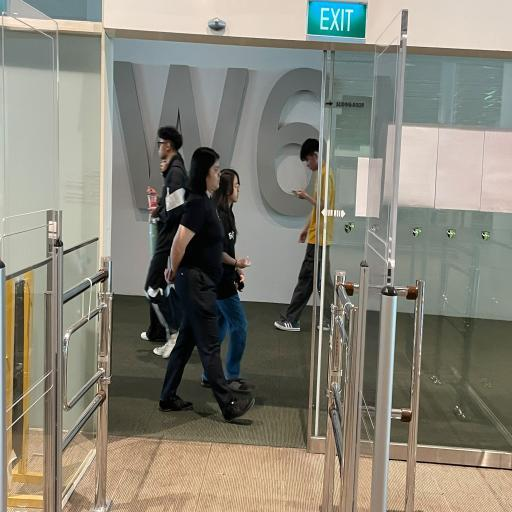person_left: (274, 138, 334, 331), (144, 126, 187, 358)
person_right: (159, 147, 254, 421), (220, 167, 248, 395)
